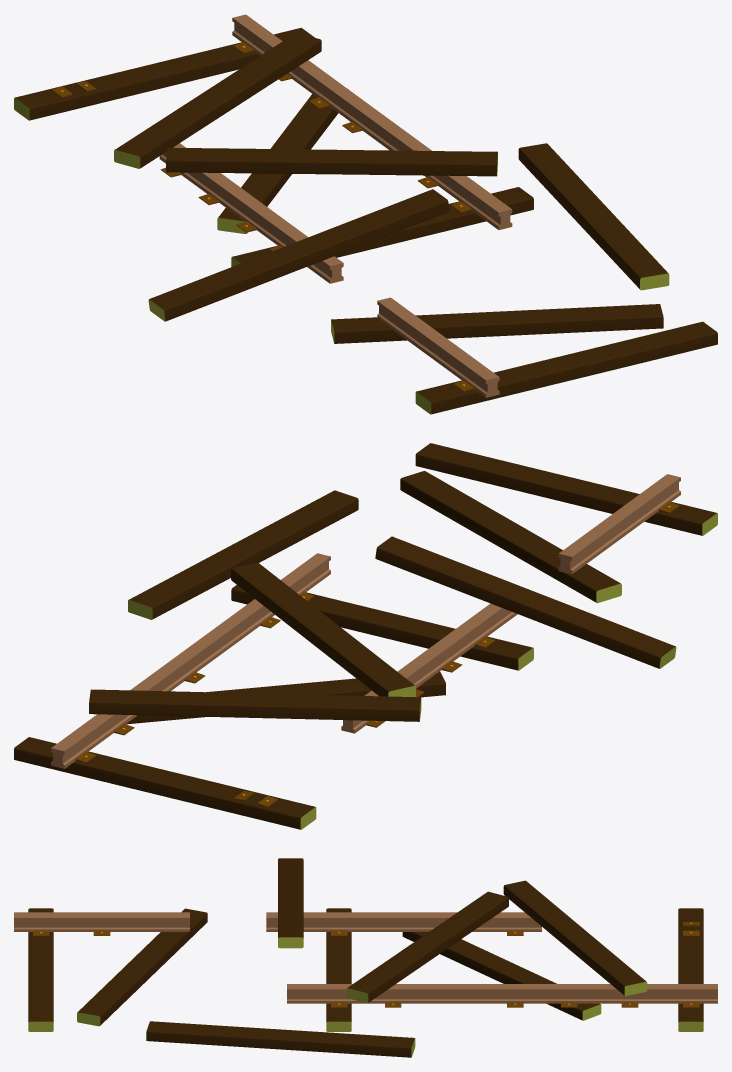
The model's file is TracksBroken.fbx.
The picture shows the model from 3 angles, top to bottom: view 1: azimuth 30°, elevation 25°; view 2: azimuth 150°, elevation 25°; view 3: azimuth 270°, elevation 25°; orthographic projection. The views are drawn at different scales.
Parts seen in each view (by area): view 1: polySurface314; view 2: polySurface314; view 3: polySurface314.
Part boxes in pixels (x1,y1,x2,y2): polySurface314: [14, 14, 717, 414]; polySurface314: [14, 443, 717, 829]; polySurface314: [14, 858, 717, 1057].
Bounding box in the file's own units: 1.07 × 0.1327 × 1.73.
